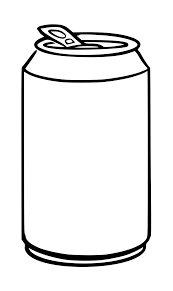can: (21, 22, 150, 266)
